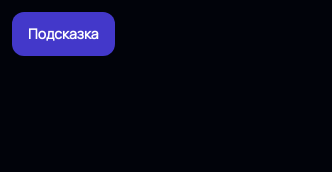
Scenario: Glowy primitive overlays and selection › shows tooltip content from keyboard focus
Focus the button "Подсказка" at (63, 34), box [12,12,115,56]
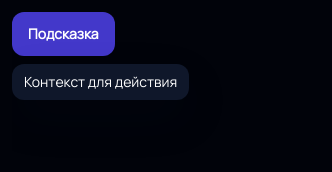
Expected: the tooltip reads "Контекст для действия", [24,72,177,91]
